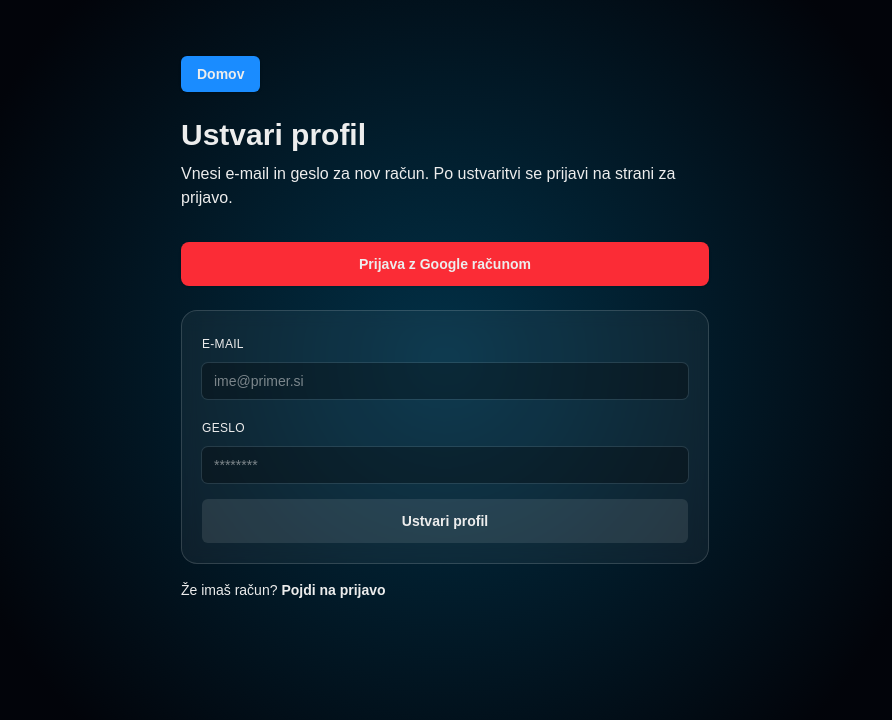
Test: Signup Page › prikaže uspešno sporočilo po uspešni registraciji
This screenshot has width=892, height=720.
Type "test@example.com" into the field with placeholder "ime@primer.si" at [445, 381], box [202,363,688,399]
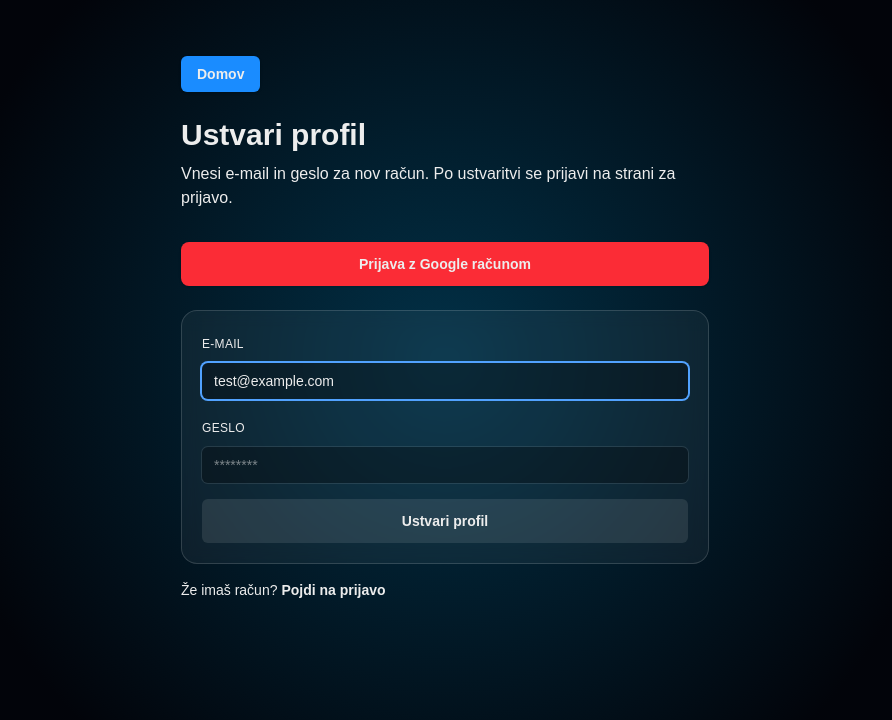
Type "password123" into the password field with placeholder "********" at [445, 465], box [202,447,688,483]
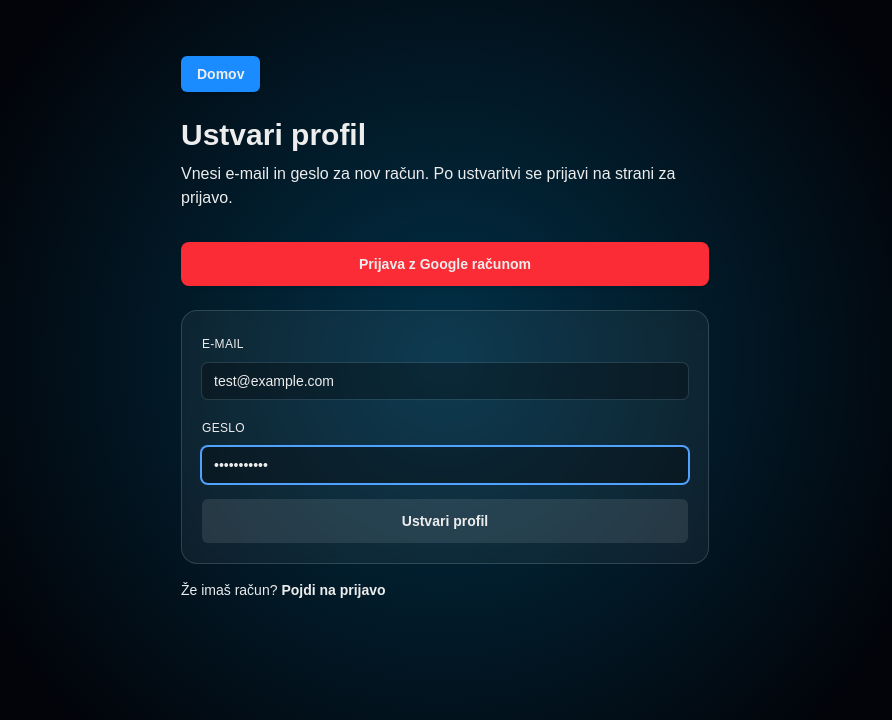
Submit the form, box [202,331,688,543]
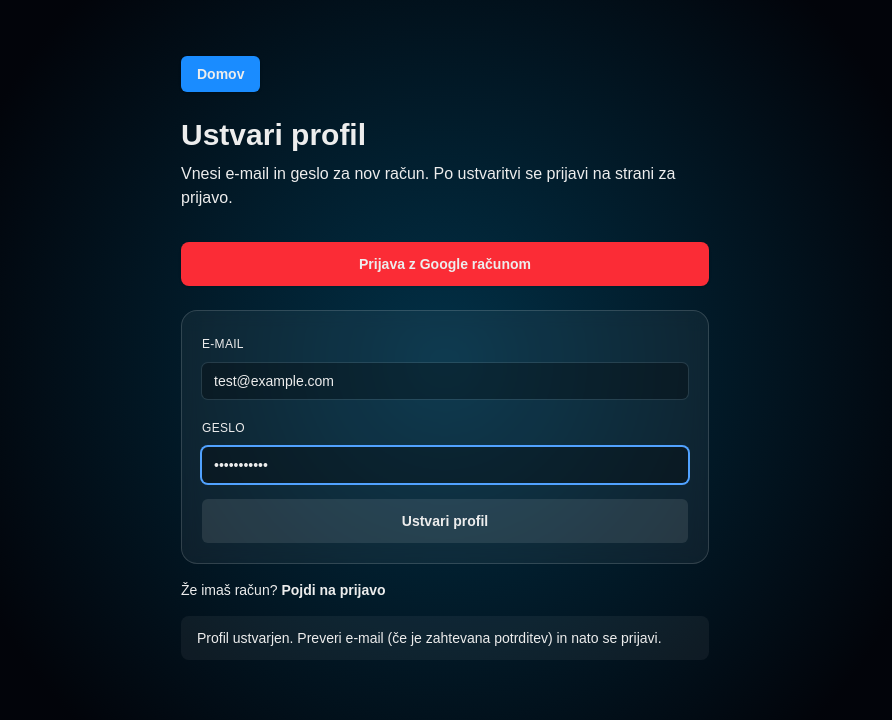
Expected: the text "Profil ustvarjen. Preveri e-mail (če je zahtevana potrditev) in nato se prijavi." is shown, [181,616,709,660]
